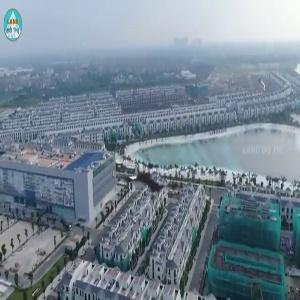drone: (104, 131, 200, 227)
